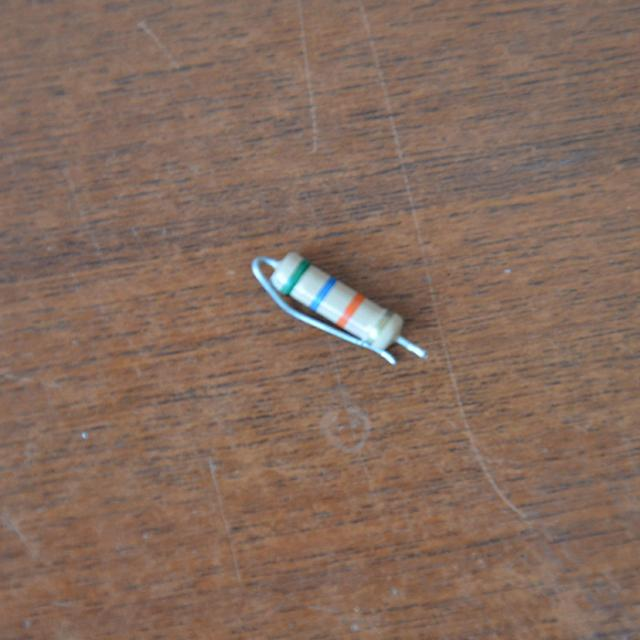blue: (309, 277, 336, 309)
gold: (367, 309, 391, 346)
green: (279, 258, 309, 293)
orange: (336, 294, 363, 328)
resistor: (261, 236, 416, 356)
